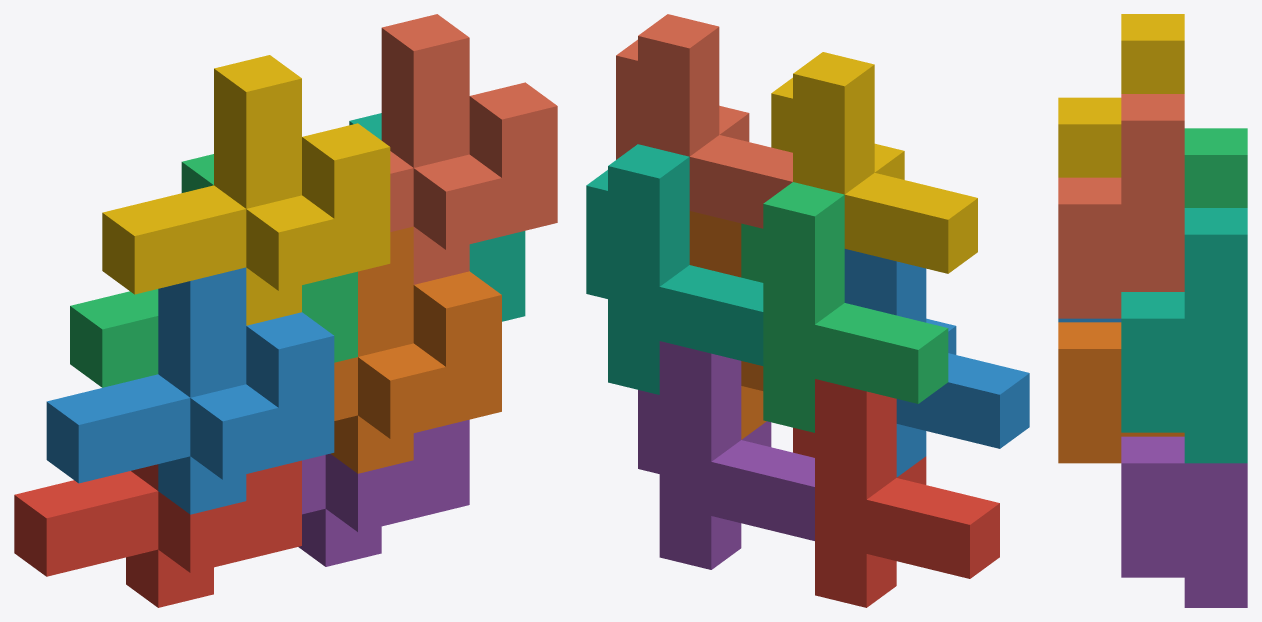
File: tiling.obj
3 views of the same model, side by side, from view 1: azimuth 30°, elevation 25°; view 2: azimuth 150°, elevation 25°; view 3: azimuth 270°, elevation 25° (orthographic). The views are drawn at different scales.
Parts seen in each view (by area): view 1: copy_1_domain_4, copy_1_domain_2, copy_1_domain_8, copy_1_domain_6, copy_1_domain_1, copy_1_domain_5, copy_1_domain_3, copy_1_domain_7; view 2: copy_1_domain_3, copy_1_domain_7, copy_1_domain_1, copy_1_domain_5, copy_1_domain_4, copy_1_domain_8, copy_1_domain_2, copy_1_domain_6; view 3: copy_1_domain_7, copy_1_domain_8, copy_1_domain_5, copy_1_domain_4, copy_1_domain_6, copy_1_domain_3, copy_1_domain_2.
Boxes of the visible parts, x1,y1,x2,y2 form: copy_1_domain_4: (102, 55, 390, 325); copy_1_domain_2: (46, 267, 334, 514); copy_1_domain_8: (381, 14, 557, 284); copy_1_domain_6: (331, 226, 501, 473); copy_1_domain_1: (14, 460, 301, 607); copy_1_domain_5: (298, 419, 469, 566); copy_1_domain_3: (70, 154, 357, 387); copy_1_domain_7: (349, 113, 525, 321); copy_1_domain_3: (741, 182, 948, 432); copy_1_domain_7: (586, 144, 763, 394); copy_1_domain_1: (793, 379, 999, 607); copy_1_domain_5: (638, 341, 814, 569); copy_1_domain_4: (771, 52, 977, 273); copy_1_domain_8: (616, 14, 792, 228); copy_1_domain_2: (844, 249, 1029, 477); copy_1_domain_6: (689, 211, 766, 439); copy_1_domain_7: (1121, 208, 1247, 463); copy_1_domain_8: (1058, 94, 1184, 318); copy_1_domain_5: (1121, 436, 1247, 607); copy_1_domain_4: (1058, 14, 1184, 177); copy_1_domain_6: (1058, 322, 1184, 463); copy_1_domain_3: (1184, 128, 1247, 207); copy_1_domain_2: (1058, 318, 1121, 322).
Bounding box in the file's own units: 8 × 9 × 3.
